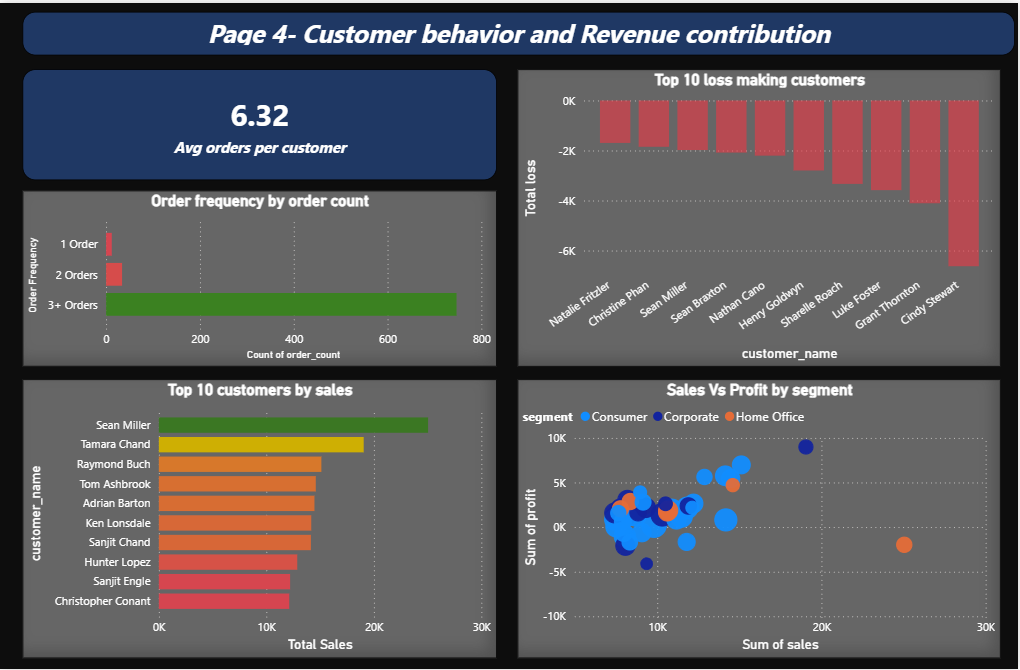

What the dashboard file says about the page in this screenshot:
{"tool":"powerbi","page":{"name":"Page 4","canvas":[1100,720],"ordinal":3},"visuals":[{"type":"barChart","title":"Top 10 customers by sales","fields":{"Y":["sales_data.Total Sales"],"Category":["sales_data.customer_name"]},"box":[23.8,406.2,512.5,301.2],"z":0},{"type":"columnChart","title":"Top 10 loss making customers","fields":{"Category":["sales_data.customer_name"],"Y":["sales_data.Total Profit"]},"box":[560,71.2,522.5,321.2],"z":1000},{"type":"clusteredBarChart","title":"Order frequency by order count","fields":{"Category":["CustomerOrders.Order Frequency"],"Y":["CountNonNull(CustomerOrders.order_count)"]},"box":[23.8,202.5,512.5,190],"z":2000},{"type":"card","fields":{"Values":["sales_data.Avg orders per customer"]},"box":[23.8,71.2,512.5,120],"z":3000},{"type":"card","fields":{"Values":["sales_data.Page_4"]},"box":[23.8,10,1072.5,47.5],"z":4000},{"type":"scatterChart","title":"Sales Vs Profit by segment","fields":{"X":["Sum(sales_data.sales)"],"Y":["Sum(sales_data.profit)"],"Category":["sales_data.customer_name"],"Size":["Sum(sales_data.quantity)"],"Series":["sales_data.segment"]},"box":[560,406.2,522.5,301.2],"z":5000}]}

Visuals, with their boxes in screenshot pixels (x1, y1, x2, y2), scaled from the page's 1100x720 canvas onto the 1020x670 screenshot:
"Top 10 customers by sales" barChart: box=[22, 378, 497, 658]
"Top 10 loss making customers" columnChart: box=[519, 66, 1004, 365]
"Order frequency by order count" clusteredBarChart: box=[22, 188, 497, 365]
card - sales_data.Avg orders per customer: box=[22, 66, 497, 178]
card - sales_data.Page_4: box=[22, 9, 1017, 54]
"Sales Vs Profit by segment" scatterChart: box=[519, 378, 1004, 658]
